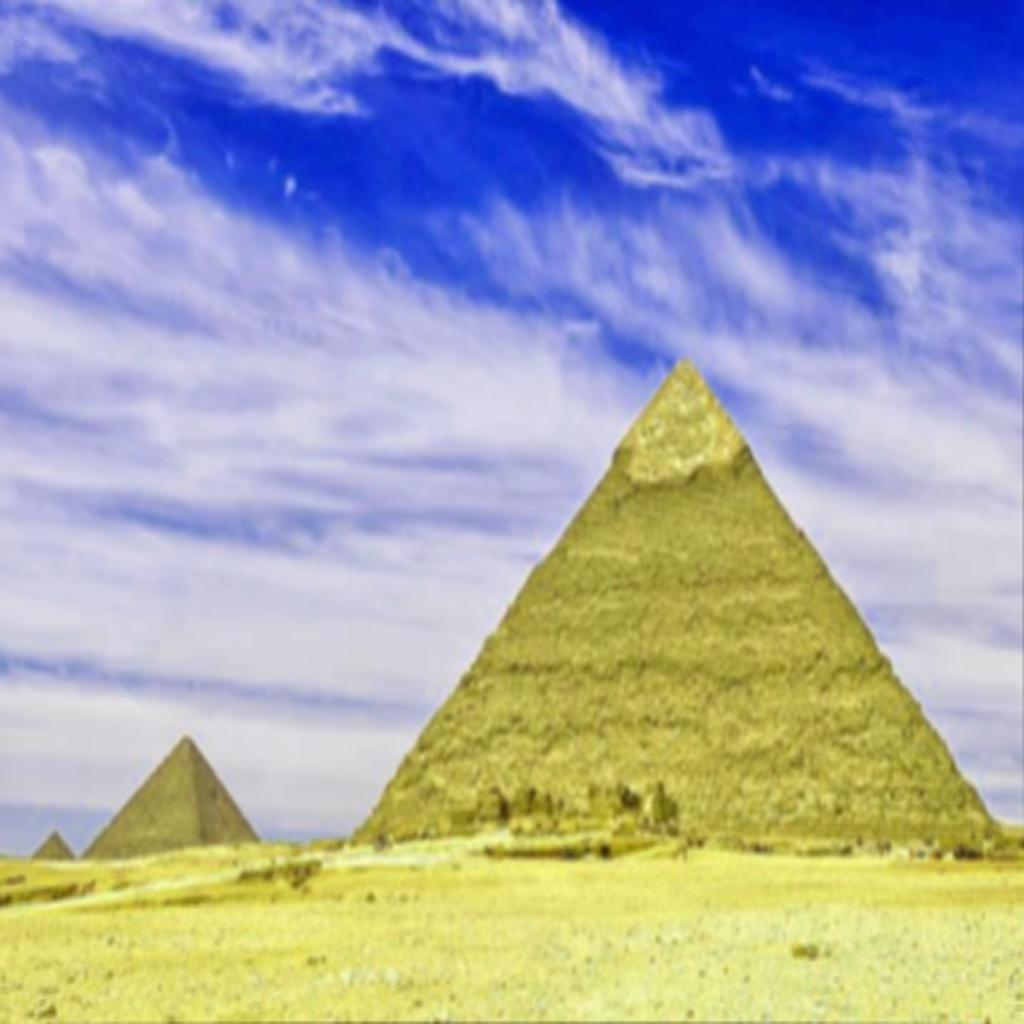Great Pyramids of Giza: (346, 353, 1008, 856)
